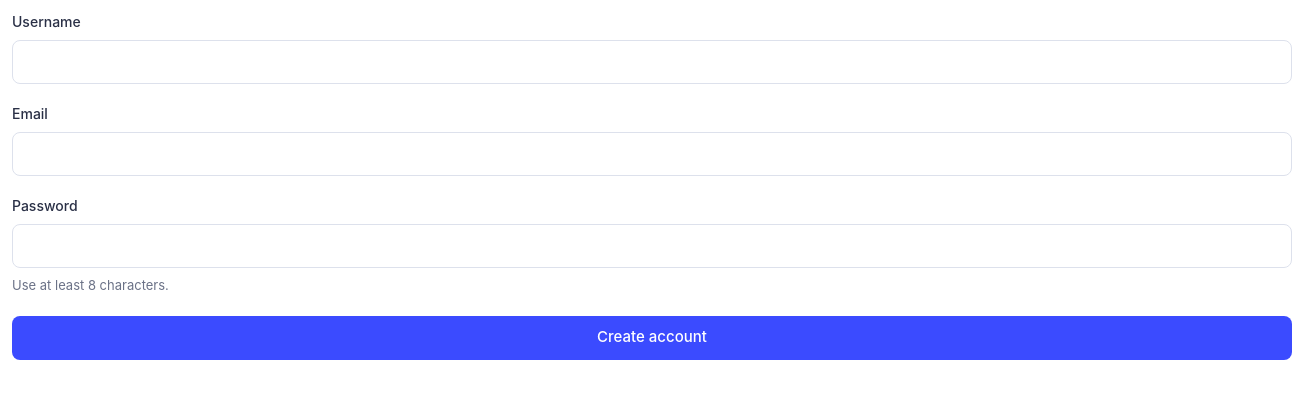
Test: RegisterForm › displays an error message when registration fails
Type "john" into the field labelled "Username" at (652, 62), box [12, 40, 1292, 84]
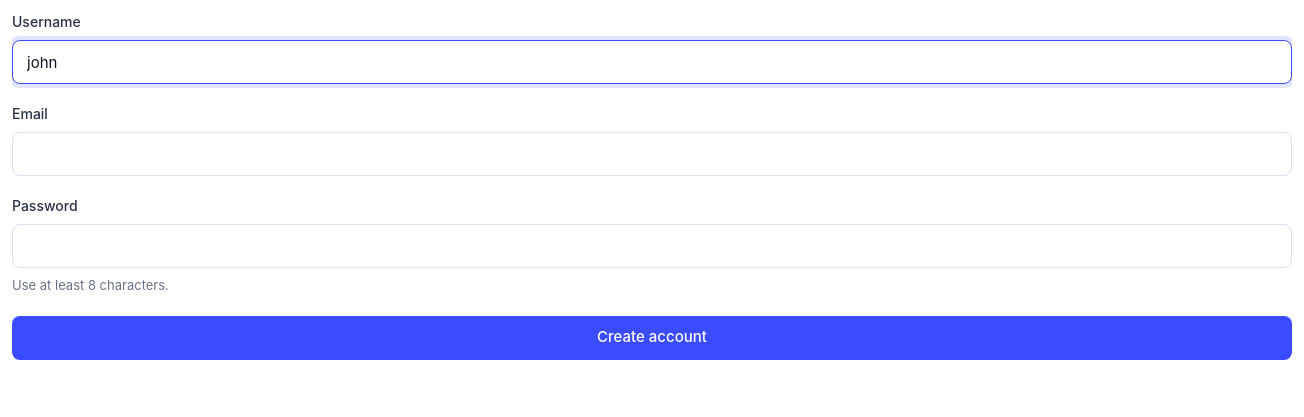
Type "john@example.com" into the field labelled "Email" at (652, 154), box [12, 132, 1292, 176]
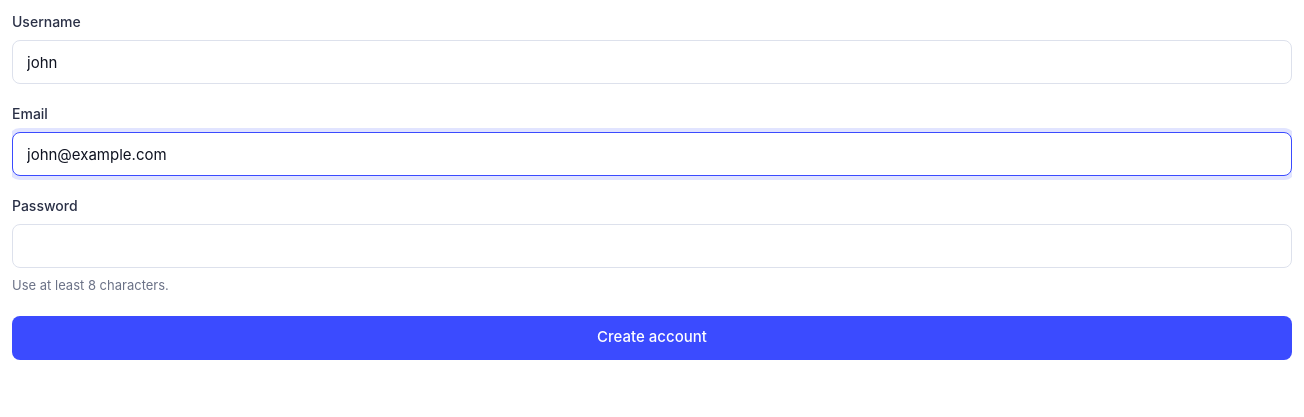
Type "StrongPassword123!" into the password field labelled "Password" at (652, 246), box [12, 224, 1292, 268]
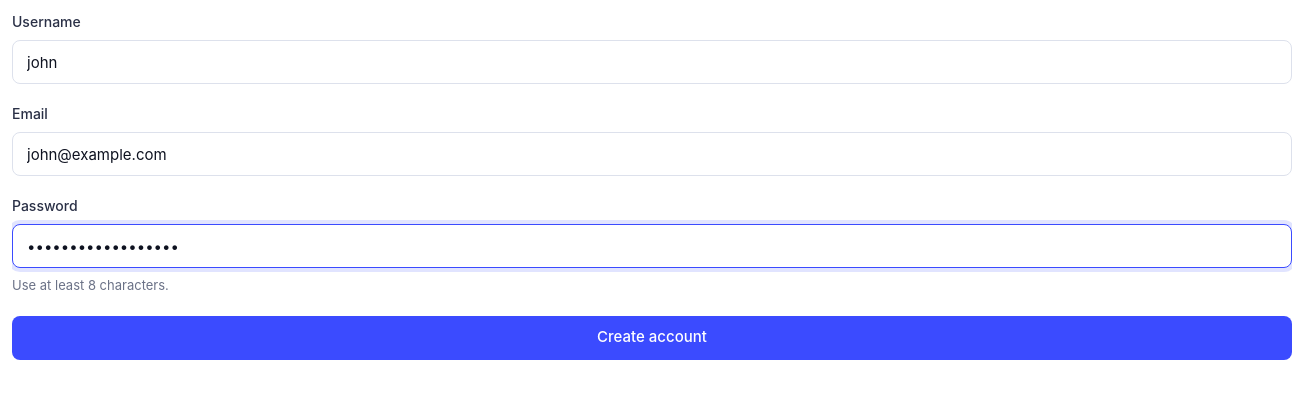
Click the button "Create account" at (652, 338), box [12, 316, 1292, 360]
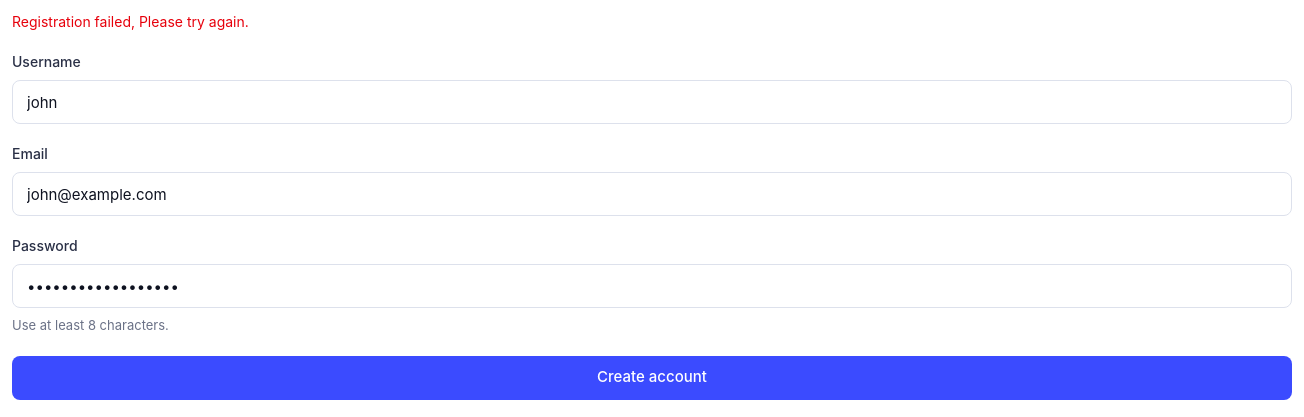
Now the message shows "Registration failed", box [12, 13, 249, 30]
